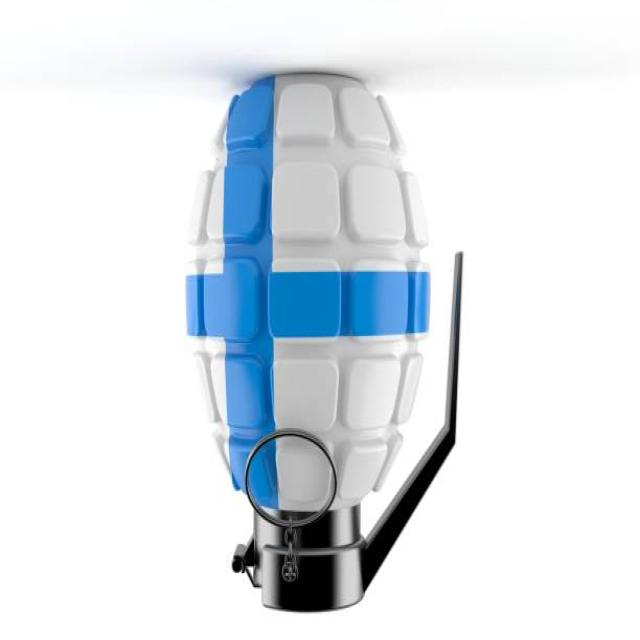grenade: (179, 60, 479, 616)
